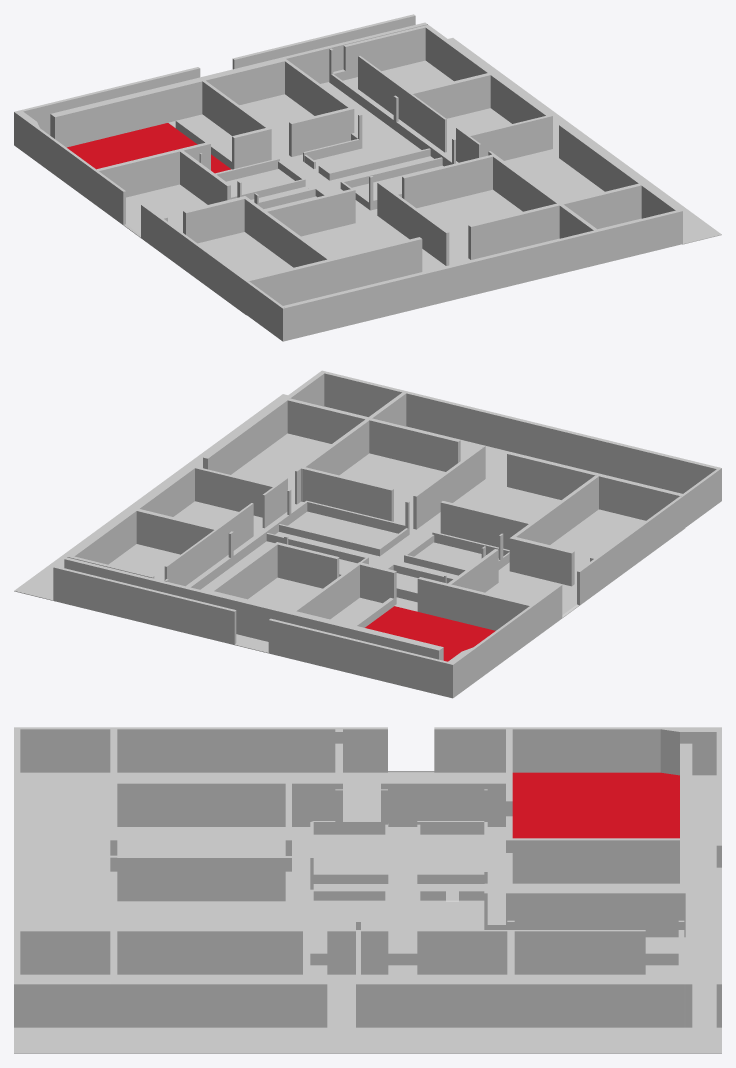
Rendered from Orfanato.fbx.
3 renders of one model, top to bottom at view 1: azimuth 30°, elevation 25°; view 2: azimuth 150°, elevation 25°; view 3: azimuth 270°, elevation 25°, orthographic. The views are drawn at different scales.
Visible parts, largest first — view 1: Estrutura, Plane; view 2: Estrutura, Plane; view 3: Estrutura, Plane.
Boxes of the visible parts, x1,y1,x2,y2 form: Estrutura: [14, 14, 721, 341]; Plane: [67, 123, 230, 173]; Estrutura: [14, 370, 721, 698]; Plane: [365, 606, 495, 661]; Estrutura: [14, 727, 721, 1053]; Plane: [512, 772, 679, 838].
Bounding box in the file's own units: 48.95 × 51.94 × 3.89.
